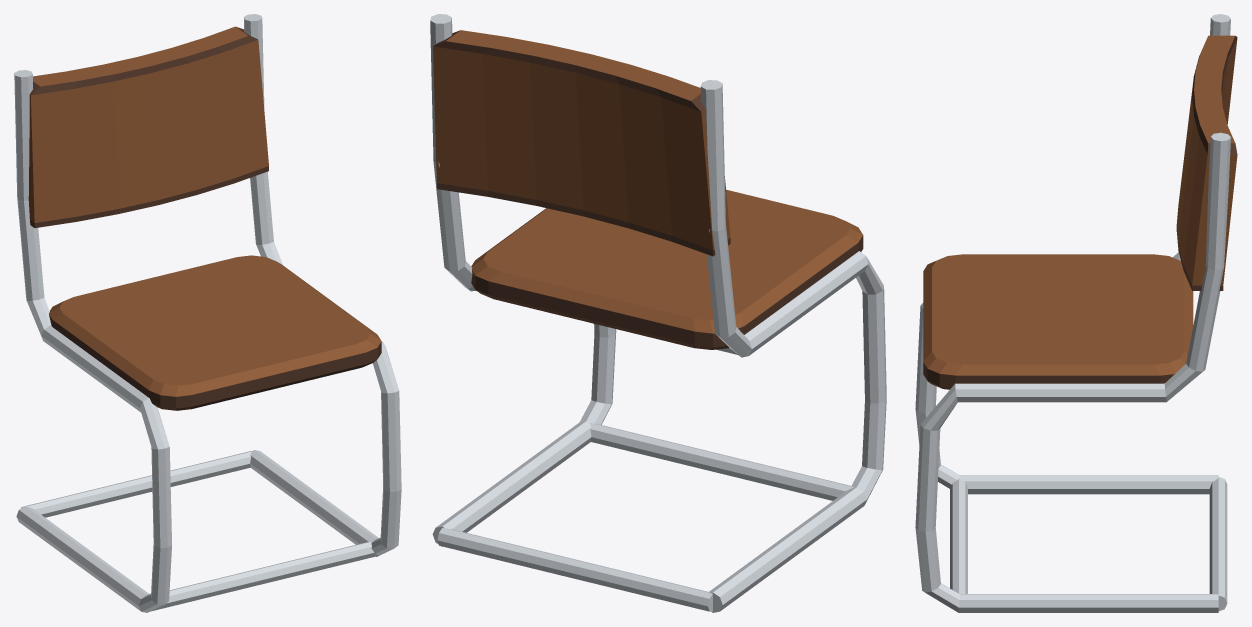
Rendered from FN_Chair_Visitor.obj.
3 renders of one model, left to right at view 1: azimuth 30°, elevation 25°; view 2: azimuth 150°, elevation 25°; view 3: azimuth 270°, elevation 25°, orthographic. The views are drawn at different scales.
Visible parts, largest first — view 1: FN_Chair_Visitor; view 2: FN_Chair_Visitor; view 3: FN_Chair_Visitor.
Boxes of the visible parts, x1,y1,x2,y2 form: FN_Chair_Visitor: (14,14,401,612); FN_Chair_Visitor: (430,14,886,612); FN_Chair_Visitor: (915,14,1237,612).
Size of the model in its own units: 0.504 by 0.8787 by 0.5388.
Materials: 1 (1 with a texture image).
